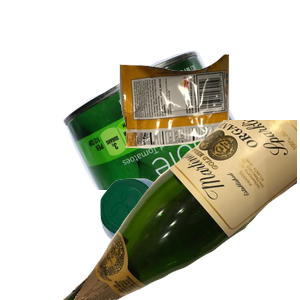glass: (60, 120, 300, 300)
metal: (60, 48, 300, 228)
plastic: (98, 176, 266, 300)
trash: (117, 52, 300, 193)
